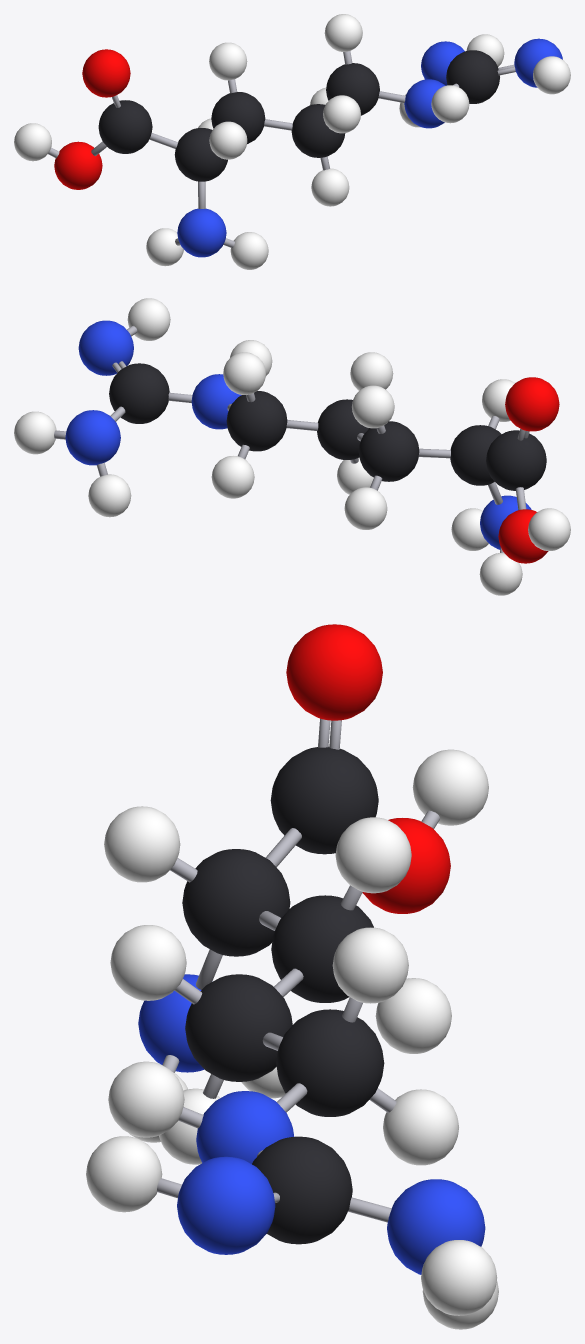
File: arginine.glb
3 views of the same model, one above another, from view 1: azimuth 30°, elevation 25°; view 2: azimuth 150°, elevation 25°; view 3: azimuth 270°, elevation 25° (orthographic). The views are drawn at different scales.
Visible parts, largest first — view 1: C9, C6, C1, N0, C3, O10, C4, O11, C2, N5, N8, H14 (+11 smaller); view 2: C6, C9, C4, C2, N7, O10, N8, C3, C1, N5, O11, H16 (+14 smaller); view 3: C4, C1, C3, C9, C6, N8, O10, C2, N7, N5, H14, H20 (+12 smaller).
Part boxes in pixels (<box>): C9: <box>98,100,152,153</box>; C6: <box>446,50,499,103</box>; C1: <box>174,128,227,181</box>; N0: <box>177,208,226,257</box>; C3: <box>291,104,345,157</box>; O10: <box>82,49,130,97</box>; C4: <box>326,63,379,115</box>; O11: <box>54,141,102,189</box>; C2: <box>211,92,265,143</box>; N5: <box>404,79,445,128</box>; N8: <box>514,38,562,87</box>; H14: <box>209,121,247,159</box>; C6: <box>109,363,169,423</box>; C9: <box>486,430,546,490</box>; C4: <box>226,391,287,451</box>; C2: <box>358,421,419,481</box>; N7: <box>65,410,120,465</box>; O10: <box>505,377,559,431</box>; N8: <box>78,320,133,375</box>; C3: <box>317,399,369,459</box>; C1: <box>450,425,501,485</box>; N5: <box>191,374,241,429</box>; O11: <box>498,509,548,563</box>; H16: <box>352,385,394,428</box>; C4: <box>276,1009,384,1116</box>; C1: <box>182,849,290,956</box>; C3: <box>185,974,292,1081</box>; C9: <box>270,747,378,854</box>; C6: <box>252,1136,352,1244</box>; N8: <box>177,1156,275,1254</box>; O10: <box>286,624,382,720</box>; C2: <box>271,895,373,1002</box>; N7: <box>387,1179,485,1274</box>; N5: <box>196,1091,294,1163</box>; H14: <box>104,806,180,882</box>; H20: <box>332,927,408,1003</box>.
Size of the model in its own units: 10.62 by 4.41 by 3.9.
